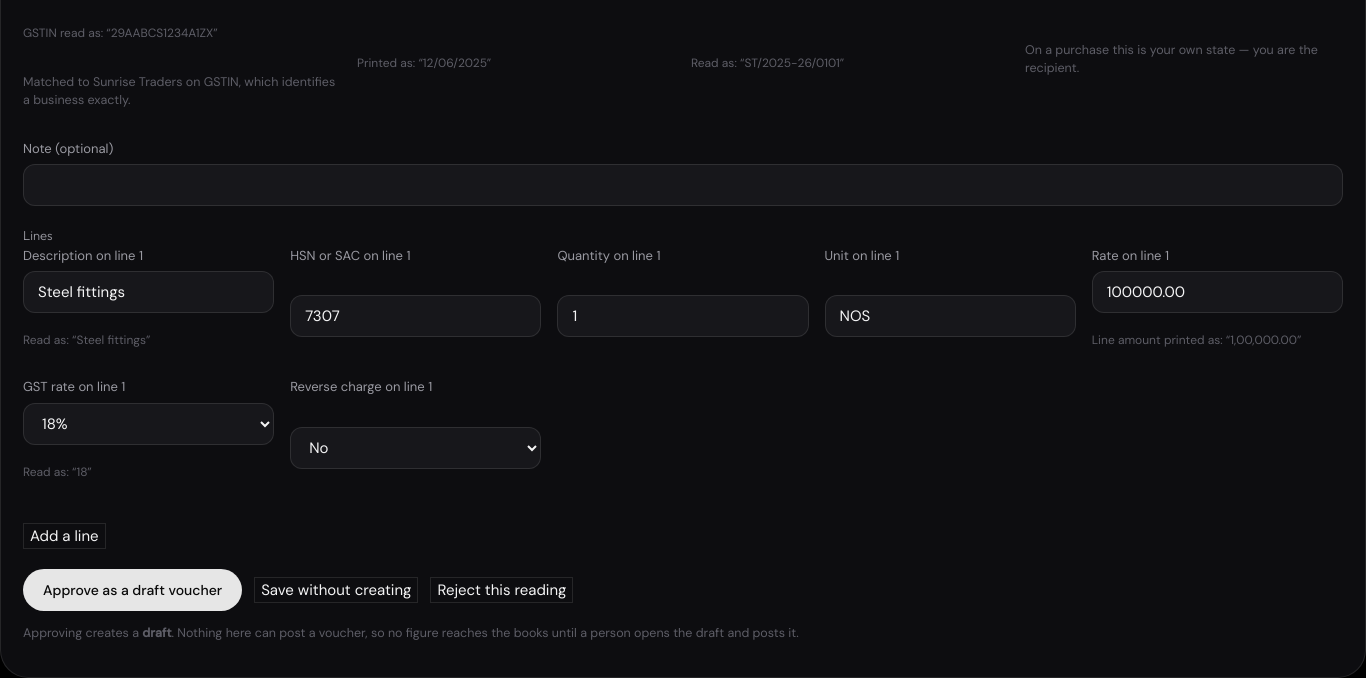
Scenario: ReviewForm › saves a part-finished review without creating anything
(page scrolled)
What coordinates should you click on to do the following:
click the button "Save without creating"
I would click on:
 (336, 590)
Its box is [254,577,418,603].
(page scrolled)
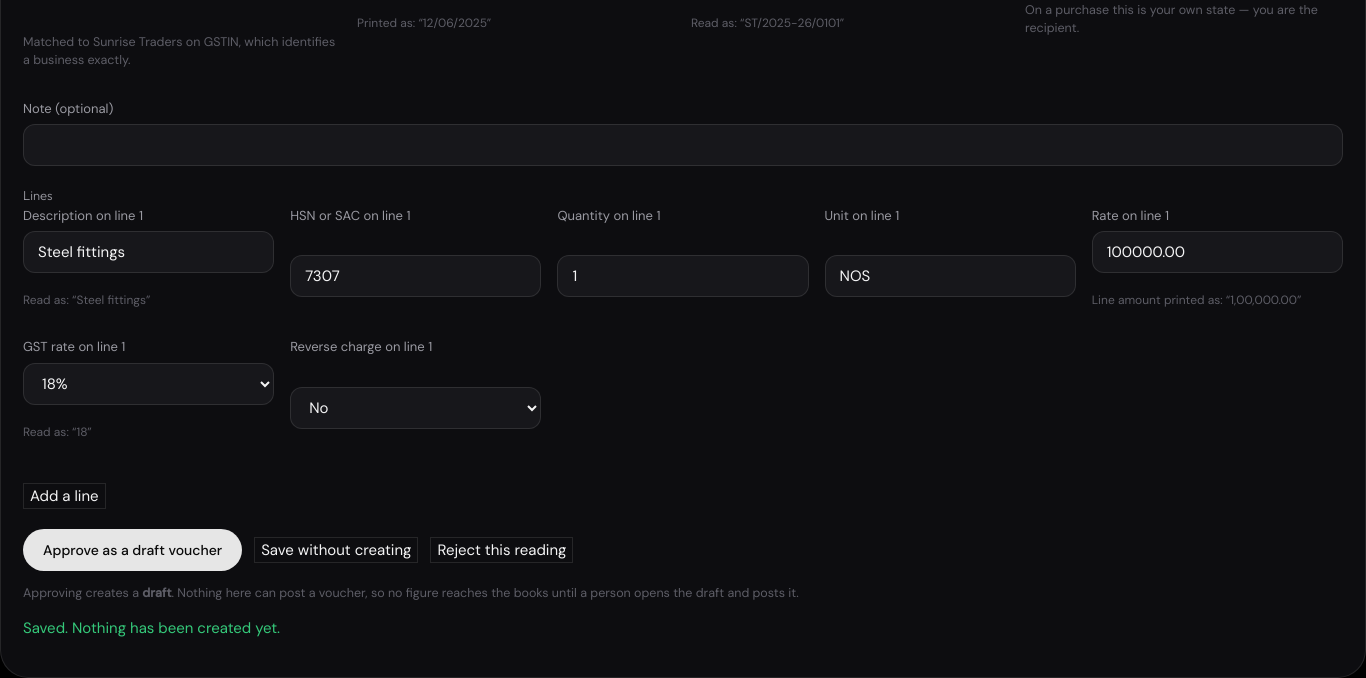
Result: the text "Saved. Nothing has been created yet." is shown at [23,618,280,638]
